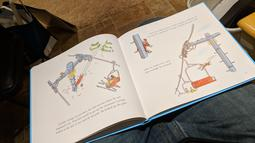text block: (46, 93, 136, 134), (140, 14, 202, 37), (140, 57, 175, 76)
